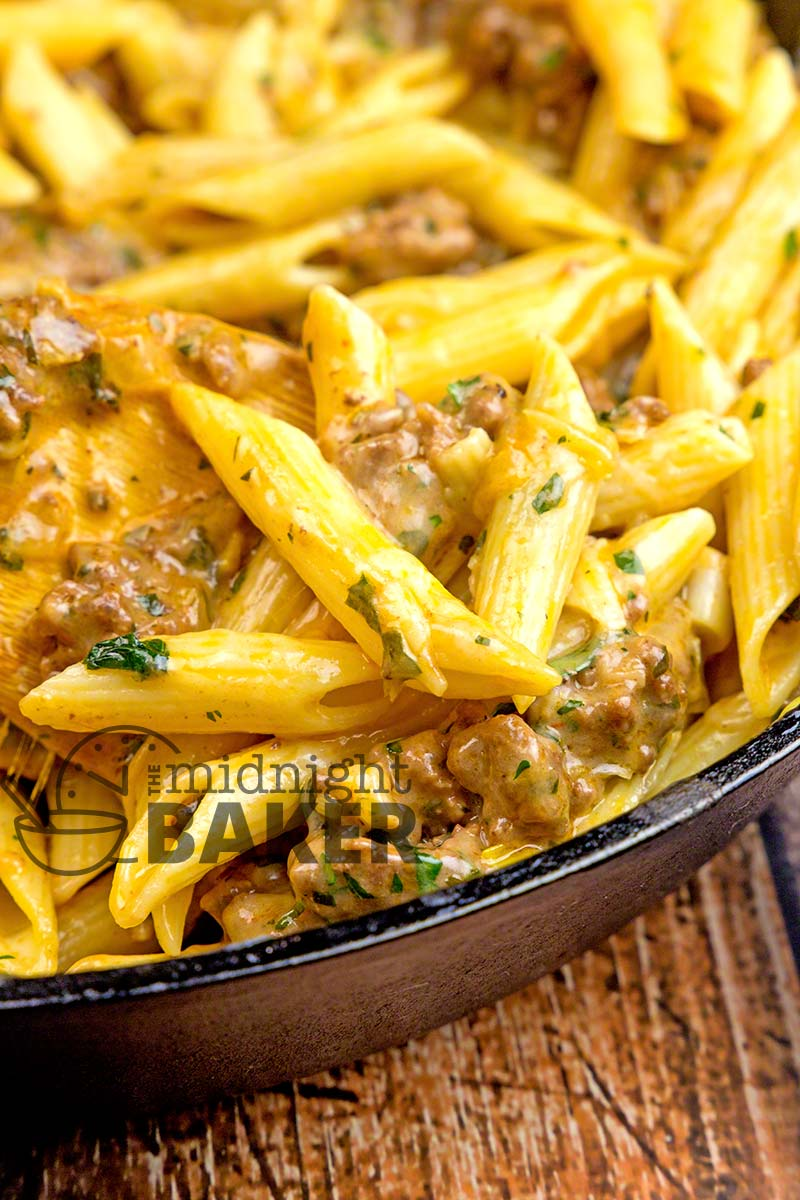plain spaghetti: (30, 22, 771, 938)
